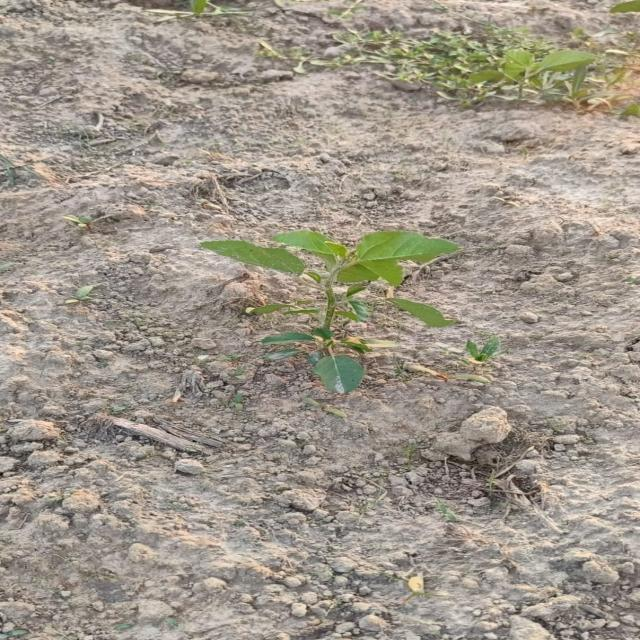weed: (201, 230, 458, 394), (388, 295, 456, 327), (467, 337, 504, 363)
